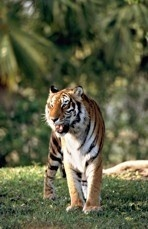tigre: (37, 84, 109, 214)
